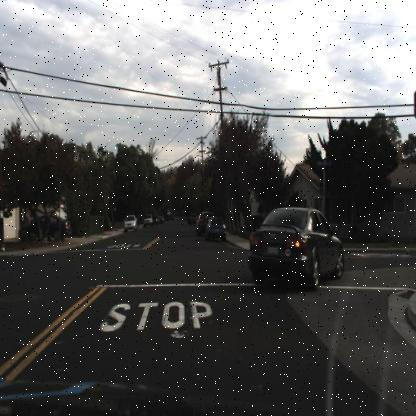car: (247, 205, 348, 287), (18, 211, 71, 238), (206, 214, 228, 243), (204, 216, 227, 238), (195, 208, 207, 237), (123, 212, 139, 232), (141, 209, 156, 230)
